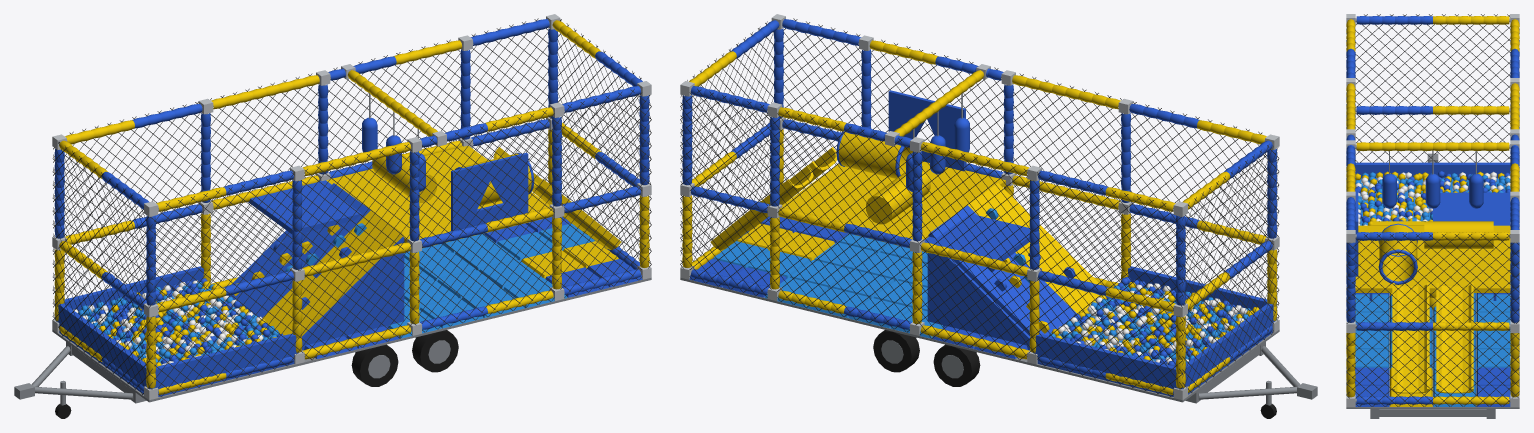
File: web.glb
3 views of the same model, side by side, from view 1: azimuth 30°, elevation 25°; view 2: azimuth 150°, elevation 25°; view 3: azimuth 270°, elevation 25° (orthographic). The views are drawn at different scales.
Parts seen in each view (by area): view 1: isotubo, rede, plataforma, piso, acolchoado, metal, bolinhas, plastico, borracha; view 2: isotubo, rede, plataforma, piso, acolchoado, metal, bolinhas, plastico, borracha; view 3: isotubo, rede, piso, plataforma, plastico, acolchoado, bolinhas, metal.
Part boxes in pixels (x1,y1,x2,y2): isotubo: (54,19,649,394); rede: (52,18,651,396); plataforma: (228,145,551,349); piso: (304,216,642,358); acolchoado: (55,117,534,396); metal: (14,14,651,405); bolinhas: (73,278,283,366); plastico: (234,147,621,309); borracha: (55,330,458,418); isotubo: (682,19,1277,394); rede: (680,18,1279,396); plataforma: (780,90,1100,349); piso: (689,216,1027,358); acolchoado: (836,117,1276,396); metal: (680,14,1317,405); bolinhas: (1049,277,1259,366); plastico: (710,147,1075,333); borracha: (873,330,1276,418); isotubo: (1346,16,1519,405); rede: (1346,14,1519,406); piso: (1355,293,1510,406); plataforma: (1355,188,1510,300); plastico: (1392,217,1473,393); acolchoado: (1355,162,1510,284); bolinhas: (1355,170,1510,225); metal: (1346,14,1519,418).
Size of the model in its own units: 7 by 2.7 by 2.
Materials: 9 (9 with a texture image).
